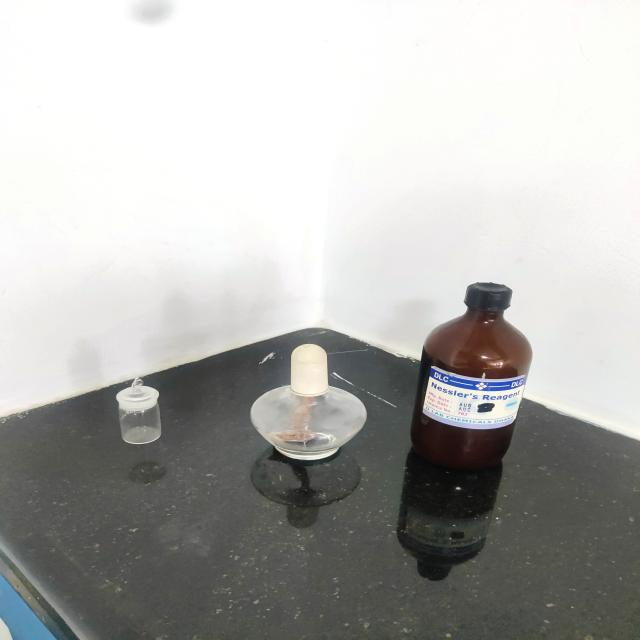Nessler_Reagent_Bottle: (403, 261, 548, 483)
Spirit_Lamp: (233, 322, 388, 488)
Weighing_Bottle: (87, 362, 188, 466)
